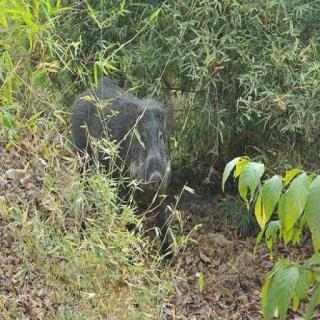Pig: (61, 65, 200, 255)
